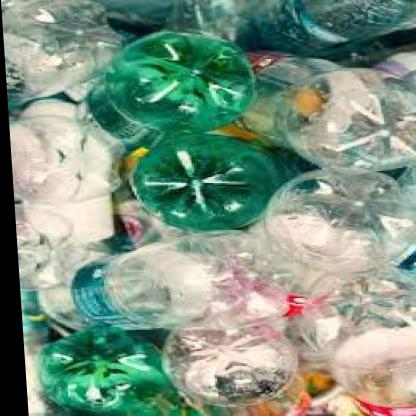Plastic: (4, 3, 416, 416)
